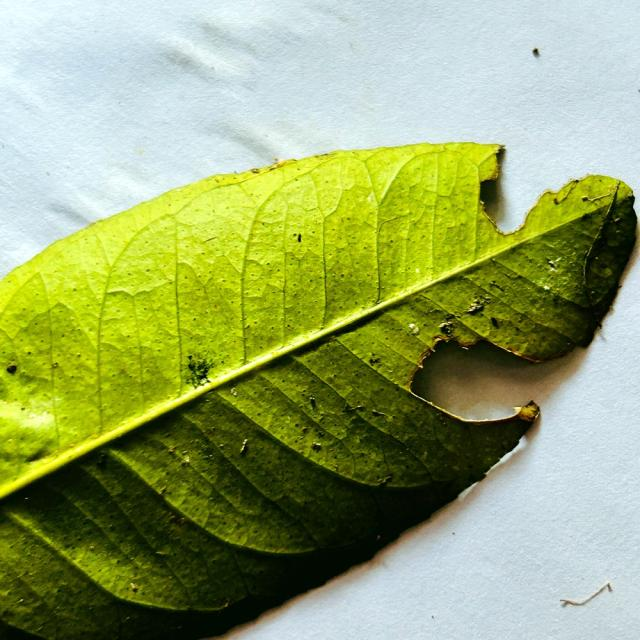Deficiency Leaf: (411, 340, 538, 423), (490, 169, 624, 241), (422, 328, 568, 372), (473, 145, 507, 232), (289, 235, 309, 259)
Lemon: (0, 143, 636, 639)
